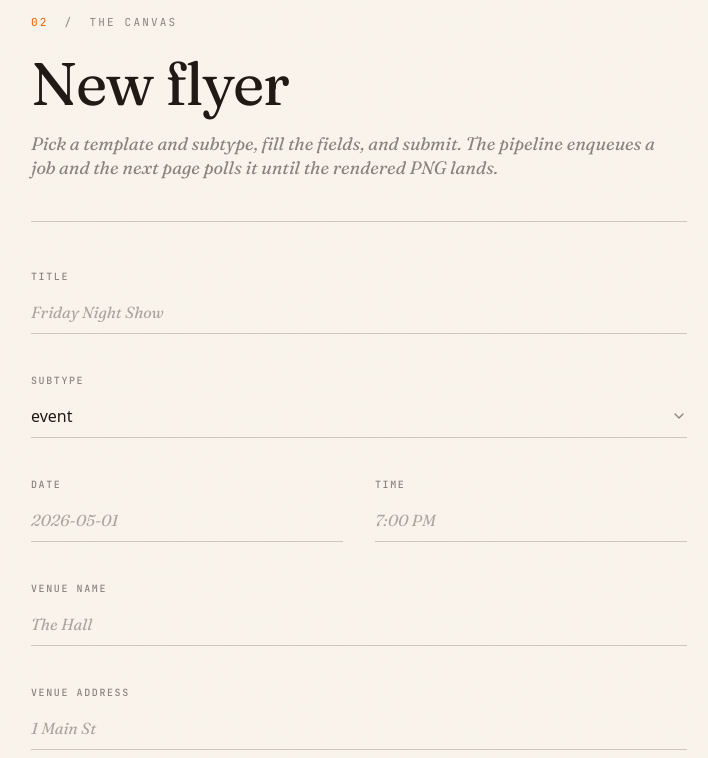
it: NewFlyerPage — Phase 22 template + subtype › renders subtype Select with event + info
Click the dropdown with test id "subtype-select" at {"x": 52, "y": 416}, box top-left (31, 394), bottom-right (687, 438)
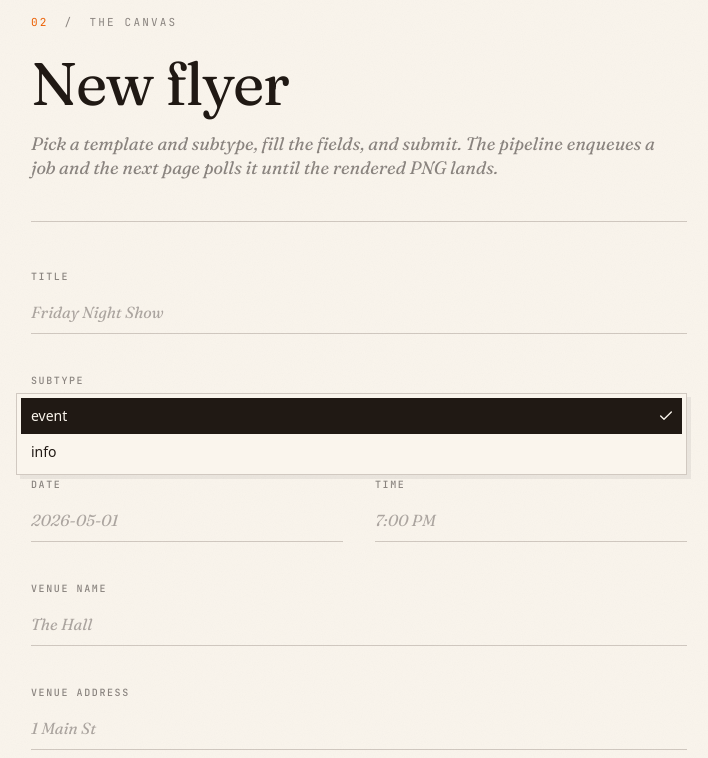
Expected: the text "event" is shown, top-left (31, 406), bottom-right (67, 426)
Expected: the text "info" is shown, top-left (31, 442), bottom-right (57, 462)
